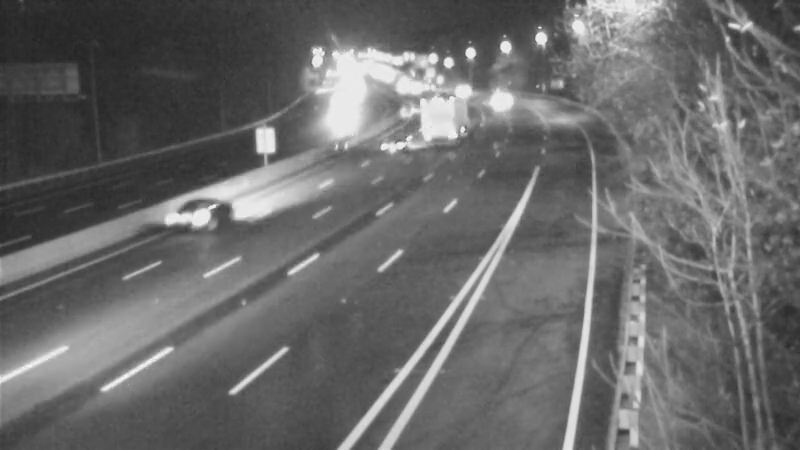vehicle: (146, 177, 226, 257), (439, 66, 489, 116), (469, 73, 519, 123), (414, 90, 464, 140), (374, 121, 424, 171)
